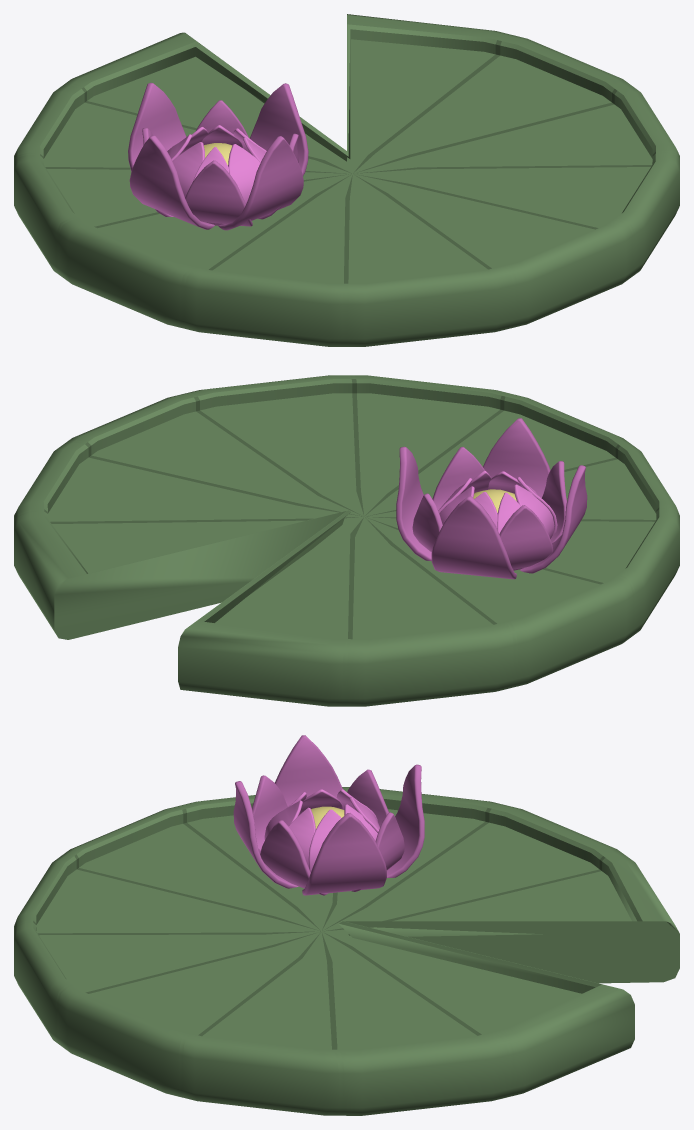
Rendered from Lilly pad w Flower.fbx.
3 views of the same model, one above another, from view 1: azimuth 30°, elevation 25°; view 2: azimuth 150°, elevation 25°; view 3: azimuth 270°, elevation 25° (orthographic).
Parts seen in each view (by area): view 1: Lily Pad with Flower, Big Flower, Smaller Flower; view 2: Lily Pad with Flower, Big Flower, Smaller Flower; view 3: Lily Pad with Flower, Big Flower, Smaller Flower.
Boxes of the visible parts, box(x1,y1,x2,y2) form: Lily Pad with Flower: box(14, 14, 679, 346); Big Flower: box(128, 82, 308, 230); Smaller Flower: box(167, 125, 266, 225); Lily Pad with Flower: box(14, 375, 679, 706); Big Flower: box(396, 418, 587, 579); Smaller Flower: box(438, 471, 557, 570); Lily Pad with Flower: box(14, 787, 679, 1115); Big Flower: box(233, 735, 424, 895); Smaller Flower: box(264, 789, 379, 872).
Bounding box in the file's own units: 157 × 37.32 × 158.
